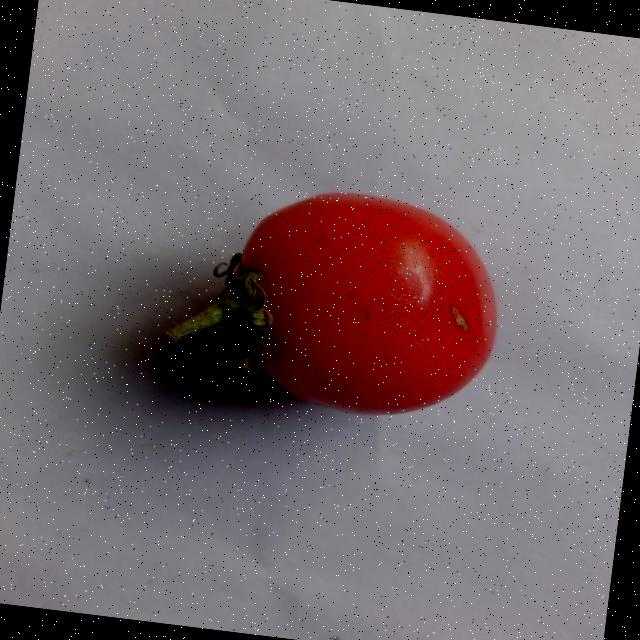Tomato: (162, 167, 519, 430)
